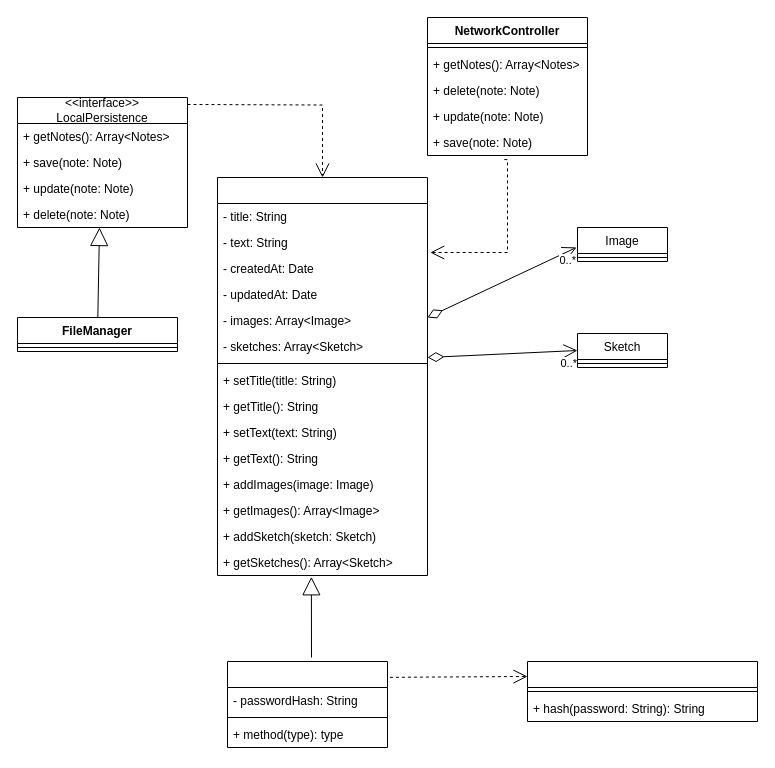
This 775x768 diagram has some shape labels left out. The box of each missing label's shape, as (x1, y1, x2, y2) in pixels:
Crypto: (526, 660, 758, 722)
Note: (216, 176, 428, 576)
Secure note: (226, 660, 388, 748)
